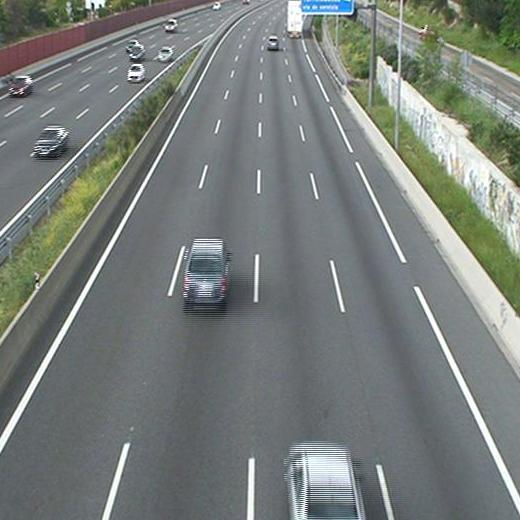car: (285, 446, 359, 520), (184, 239, 229, 302), (266, 36, 279, 50)
truck: (287, 1, 303, 37)
